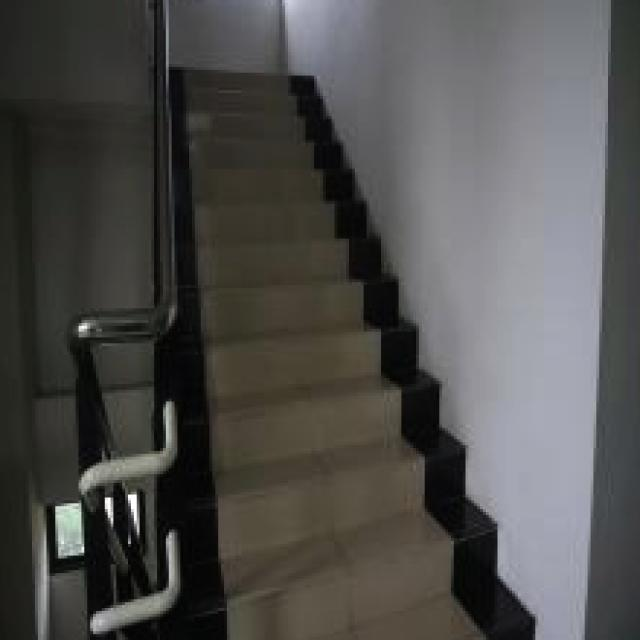upstair: (173, 82, 449, 640)
